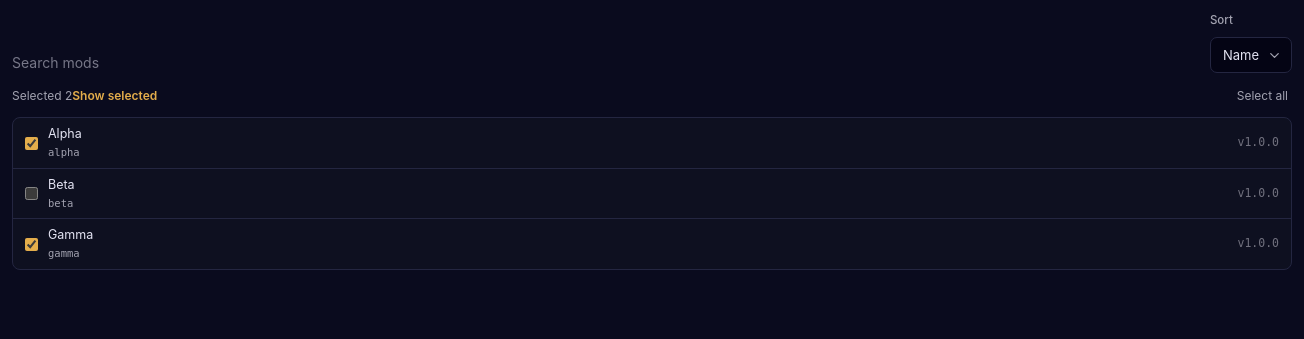
<ModMultiSelect> selected peek › expands the selected-count toggle to list chosen mod names
The image size is (1304, 339).
# Click the "Selected 2" toggle button to open the peek.
Click the button "Selected 2Show selected" at coordinates (85, 96), box [12,87,157,105]
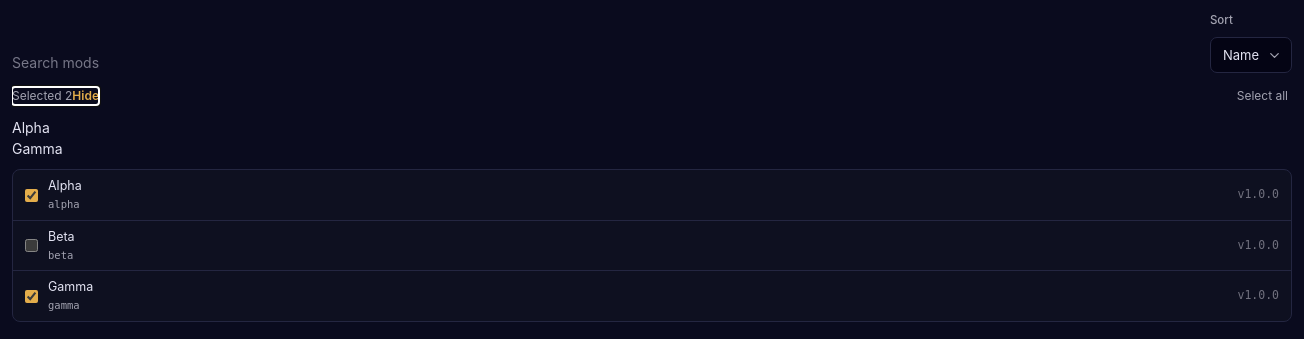
Expected: the element with test id "mod-multiselect-selected-peek" does not show "Beta", [12,119,63,157]
Now the element with test id "mod-multiselect-selected-peek" shows "Alpha", box [12,119,50,136]
Now the element with test id "mod-multiselect-selected-peek" shows "Gamma", box [12,140,63,157]
